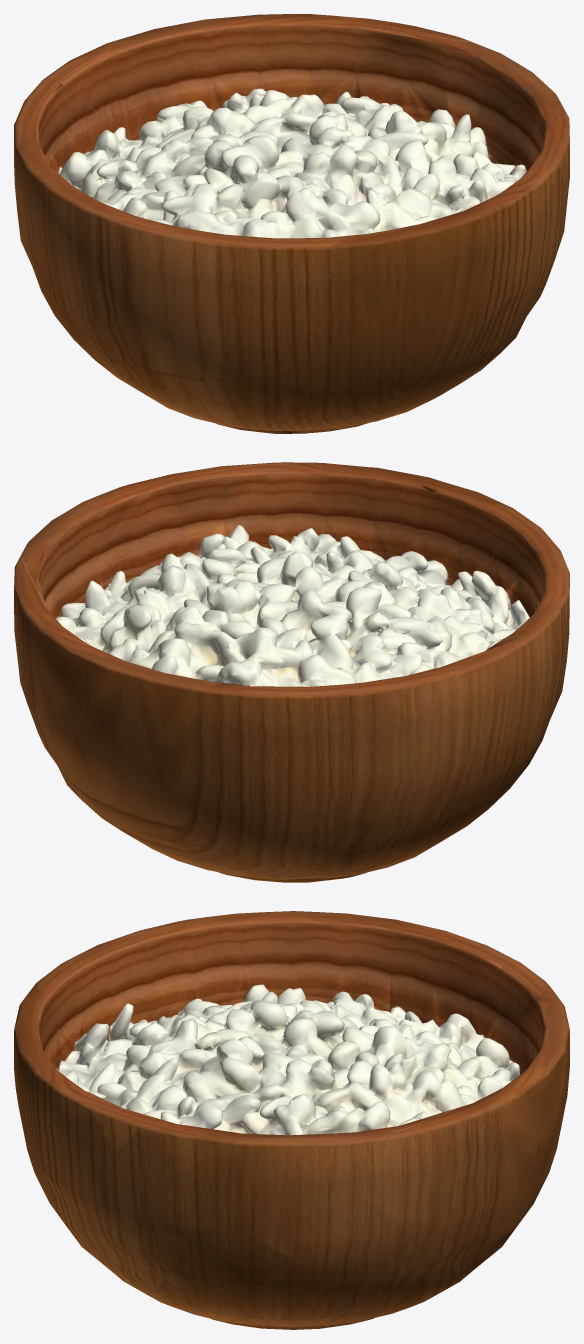
Rendered from rice-bowl.glb.
The picture shows the model from 3 angles, top to bottom: view 1: azimuth 30°, elevation 25°; view 2: azimuth 150°, elevation 25°; view 3: azimuth 270°, elevation 25°; orthographic projection.
Parts seen in each view (by area): view 1: Mesh_0; view 2: Mesh_0; view 3: Mesh_0.
Part boxes in pixels (bbox=[...]): Mesh_0: bbox=[14, 14, 569, 433]; Mesh_0: bbox=[14, 462, 569, 882]; Mesh_0: bbox=[14, 911, 569, 1329].
Size of the model in its own units: 0.1219 by 0.06 by 0.1219.
Materials: 1 (1 with a texture image).
